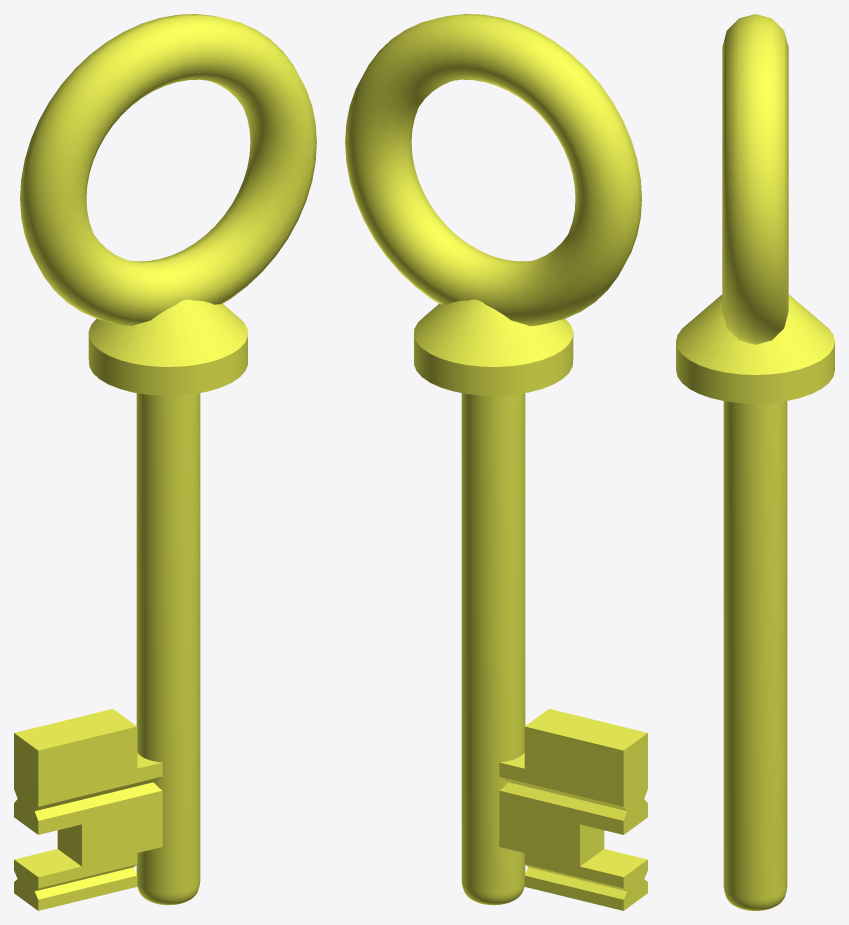
File: key.fbx
3 views of the same model, side by side, from view 1: azimuth 30°, elevation 25°; view 2: azimuth 150°, elevation 25°; view 3: azimuth 270°, elevation 25° (orthographic).
Parts seen in each view (by area): view 1: Torus; view 2: Torus; view 3: Torus.
Boxes of the visible parts, <box> form: Torus: <box>14,14,316,910</box>; Torus: <box>345,14,647,910</box>; Torus: <box>676,14,834,910</box>.
Size of the model in its own units: 250 by 728 by 120.
